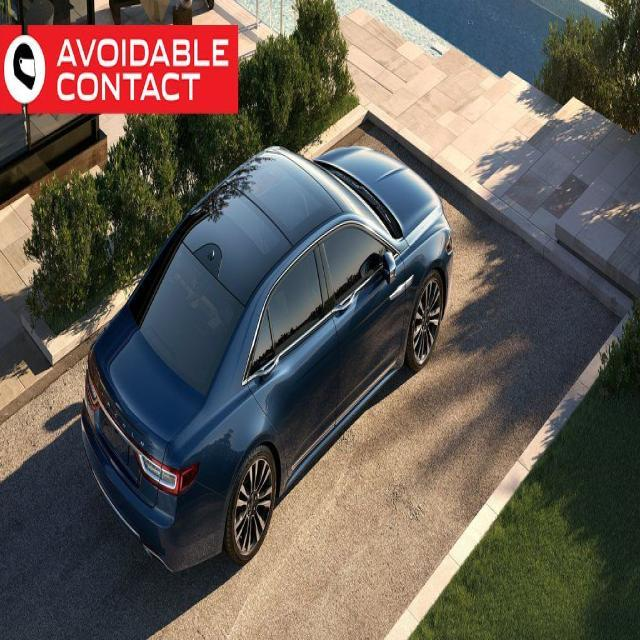pickup: (80, 141, 454, 575)
